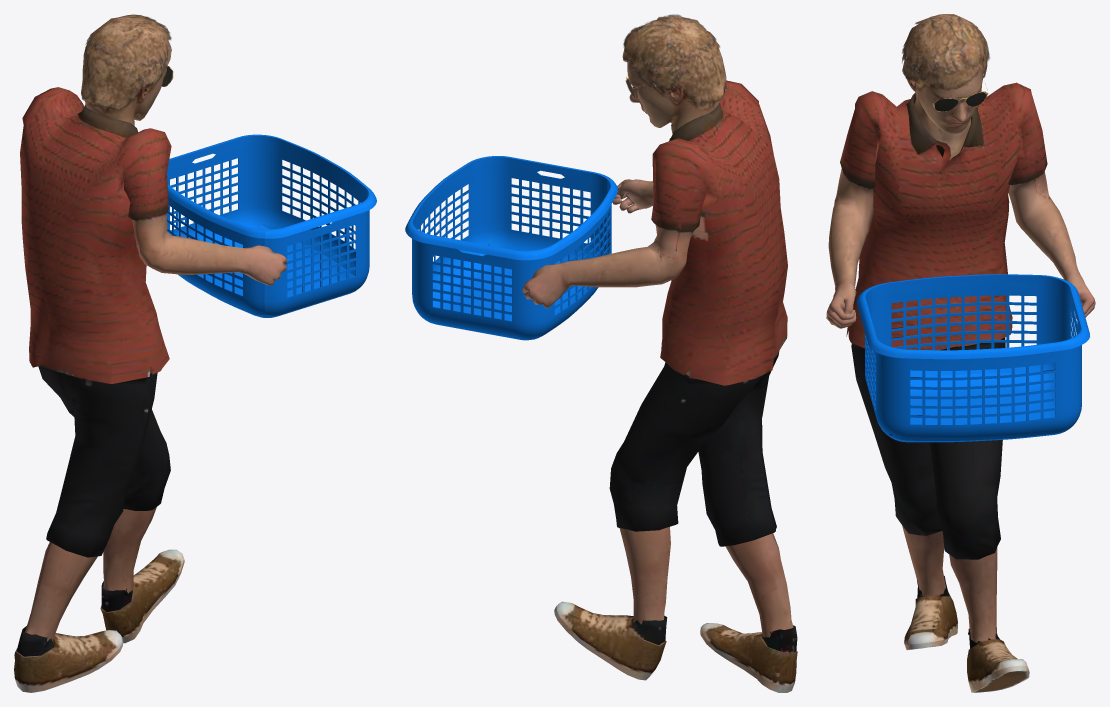
3 renders of one model, left to right at view 1: azimuth 30°, elevation 25°; view 2: azimuth 150°, elevation 25°; view 3: azimuth 270°, elevation 25°, orthographic. The views are drawn at different scales.
Parts seen in each view (by area): view 1: workv1_w007, workv1_w007_props; view 2: workv1_w007, workv1_w007_props; view 3: workv1_w007, workv1_w007_props.
Part boxes in pixels (x1=…): workv1_w007: x1=14, y1=14, x2=287, y2=692; workv1_w007_props: x1=166, y1=134, x2=376, y2=317; workv1_w007: x1=521, y1=14, x2=797, y2=692; workv1_w007_props: x1=405, y1=156, x2=618, y2=340; workv1_w007: x1=826, y1=14, x2=1095, y2=692; workv1_w007_props: x1=856, y1=274, x2=1089, y2=442.
Size of the model in its own units: 0.9543 by 1.71 by 0.6174.
2 materials, 2 textured.
